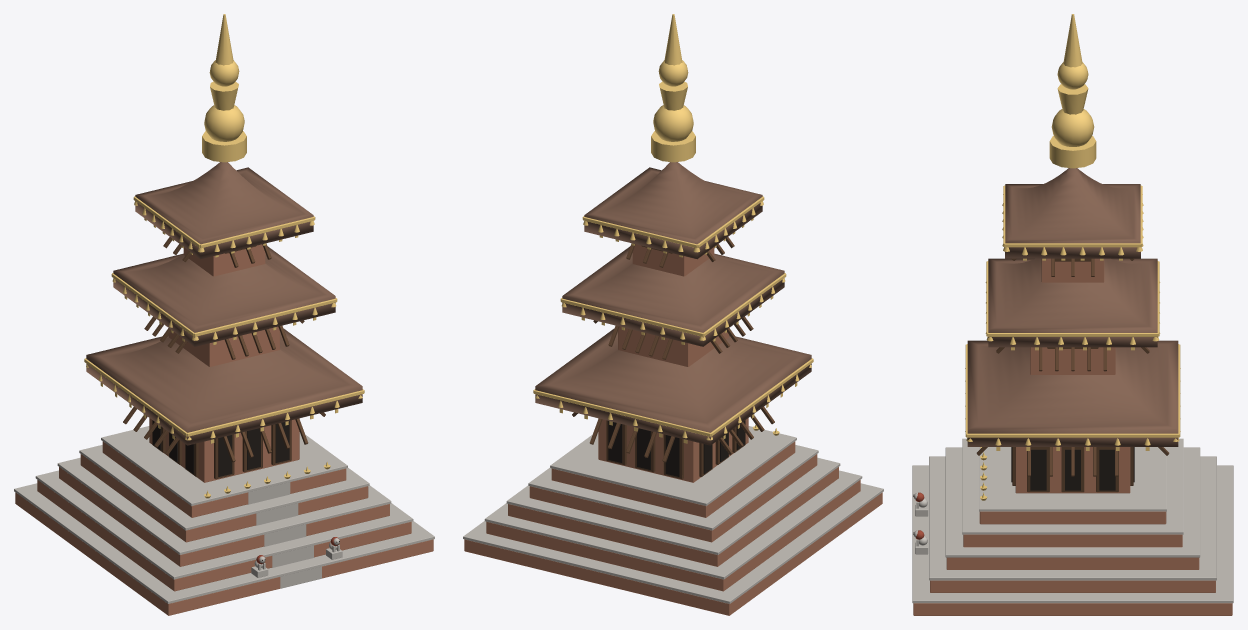
File: trailokya.glb
The picture shows the model from 3 angles, left to right: view 1: azimuth 30°, elevation 25°; view 2: azimuth 150°, elevation 25°; view 3: azimuth 270°, elevation 25°; orthographic projection. The views are drawn at different scales.
Visible parts, largest first — view 1: trailokya; view 2: trailokya; view 3: trailokya.
Boxes of the visible parts, x1,y1,x2,y2 form: trailokya: (14,14,434,615); trailokya: (463,14,883,615); trailokya: (912,14,1233,615).
Size of the model in its own units: 1.01 by 1.85 by 1.01.
